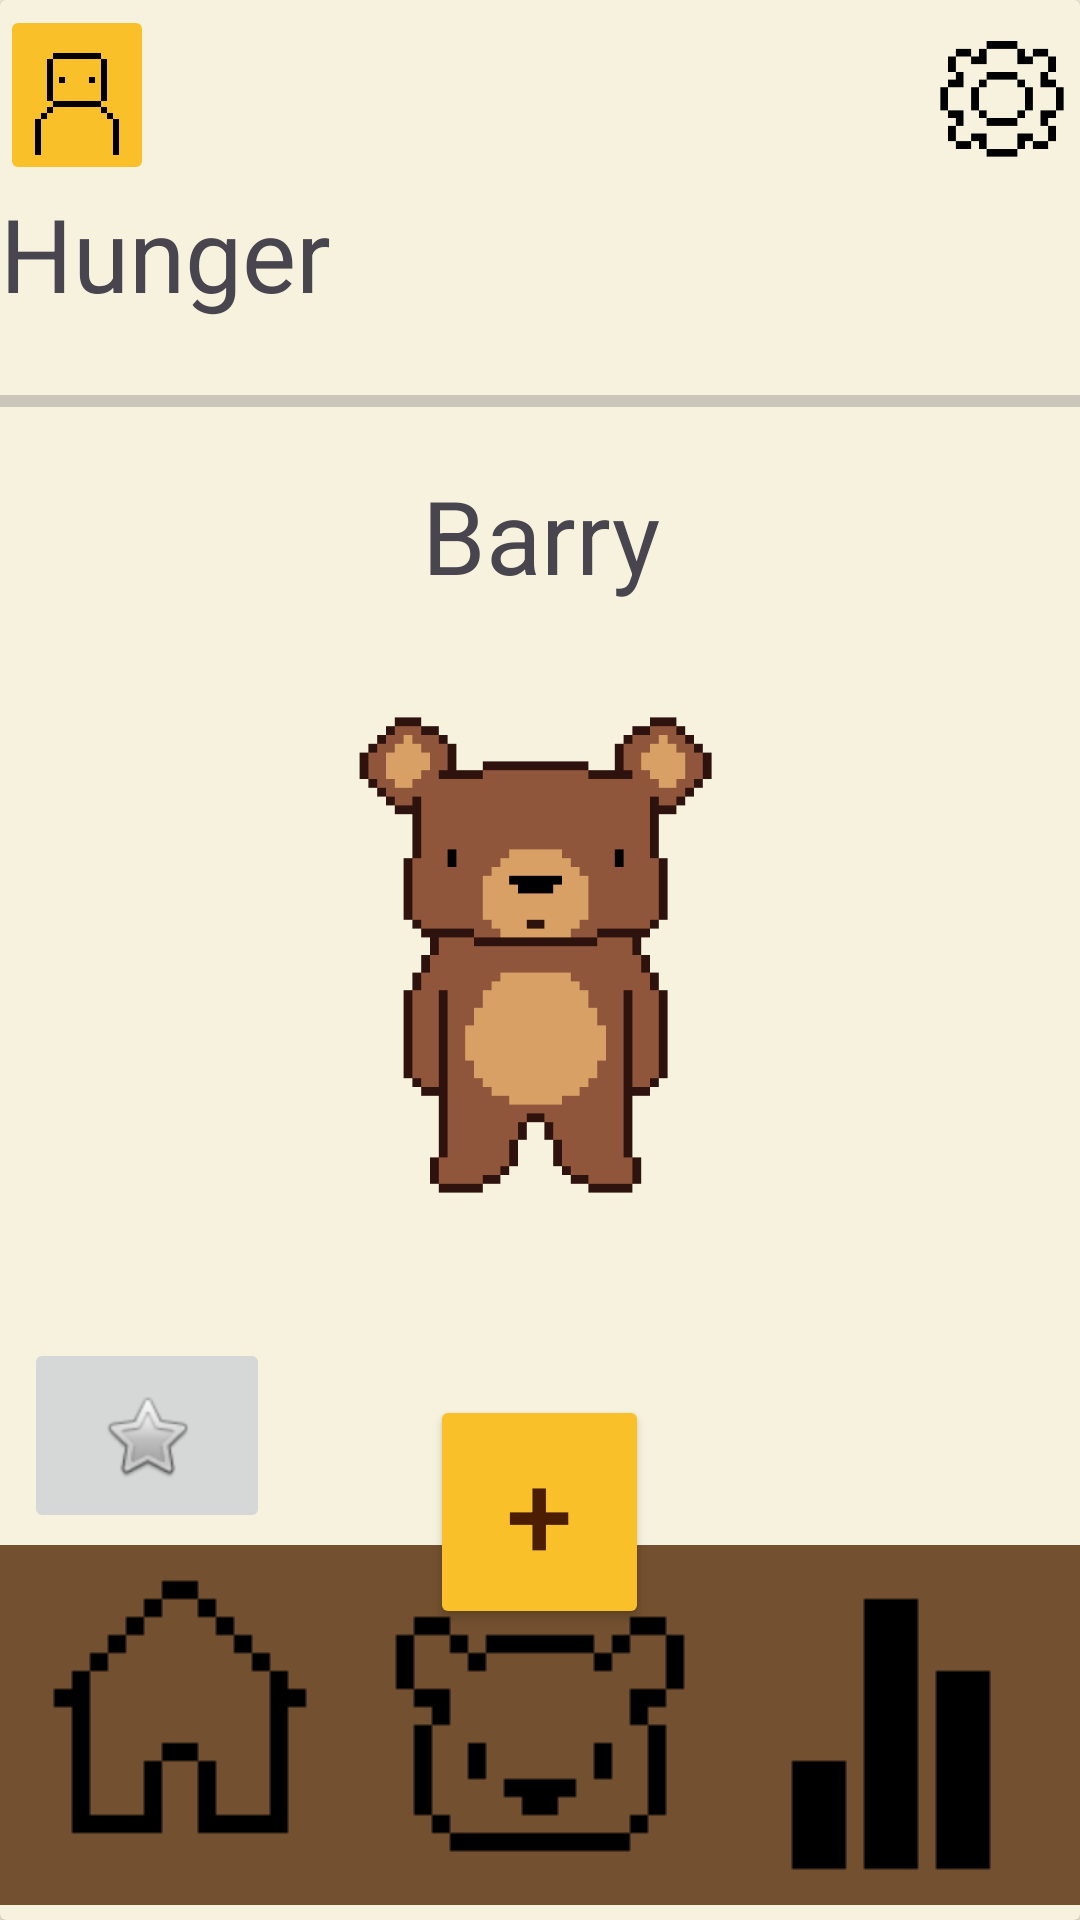

Point at icon controls on the screen. Image size 1080px x 1920px, points as (x=x, y=y).
analyticsicon: (x=891, y=1734)
bearicon: (x=540, y=1725)
cogicon: (x=1002, y=99)
houseicon: (x=180, y=1707)
profileicon: (x=77, y=95)
